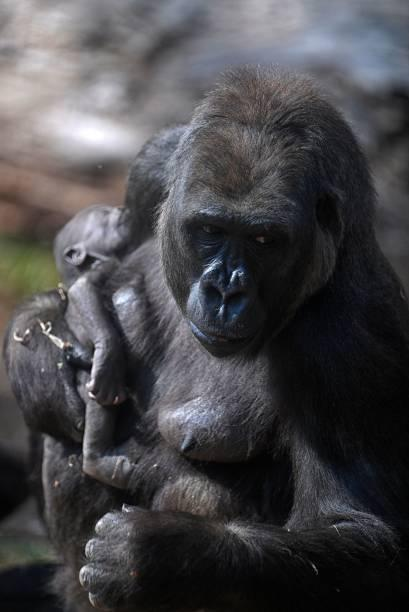gorille_Autres: (10, 79, 409, 612)
